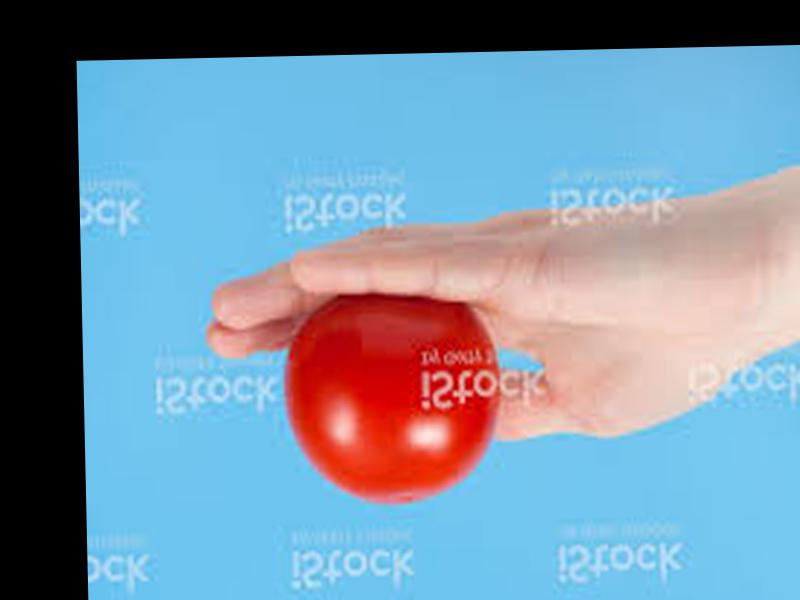Tomato: (283, 293, 499, 501)
